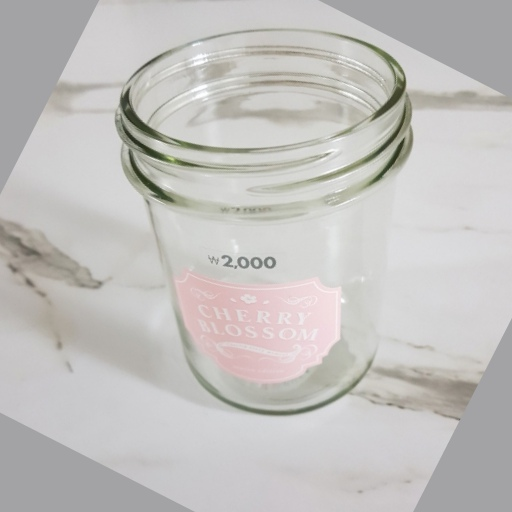Glass_5: (120, 28, 414, 421)
